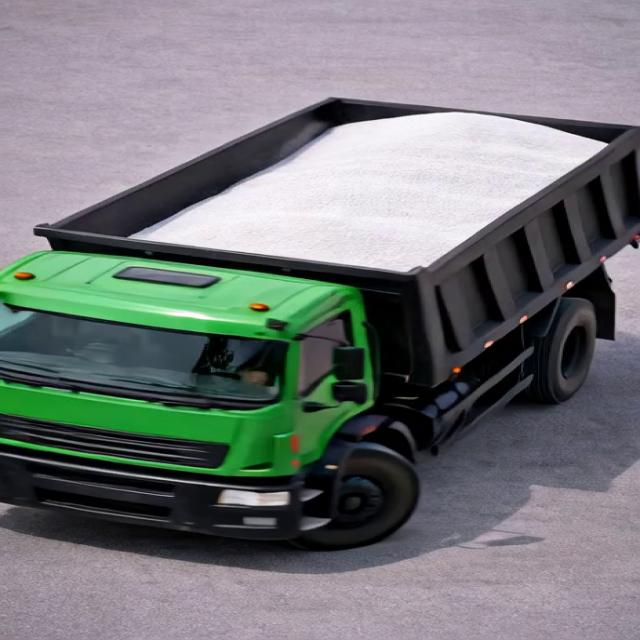trailer: (31, 93, 639, 287)
truck: (0, 67, 639, 550)
